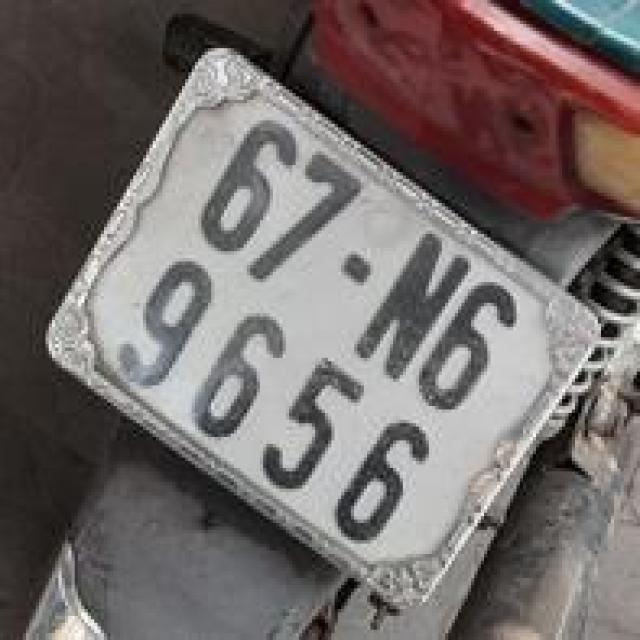5: (241, 345, 377, 511)
6: (170, 295, 306, 459), (176, 103, 308, 266), (401, 269, 539, 423), (318, 403, 440, 560)
7: (236, 135, 374, 311)
9: (97, 242, 232, 414)
N: (339, 211, 491, 400)
